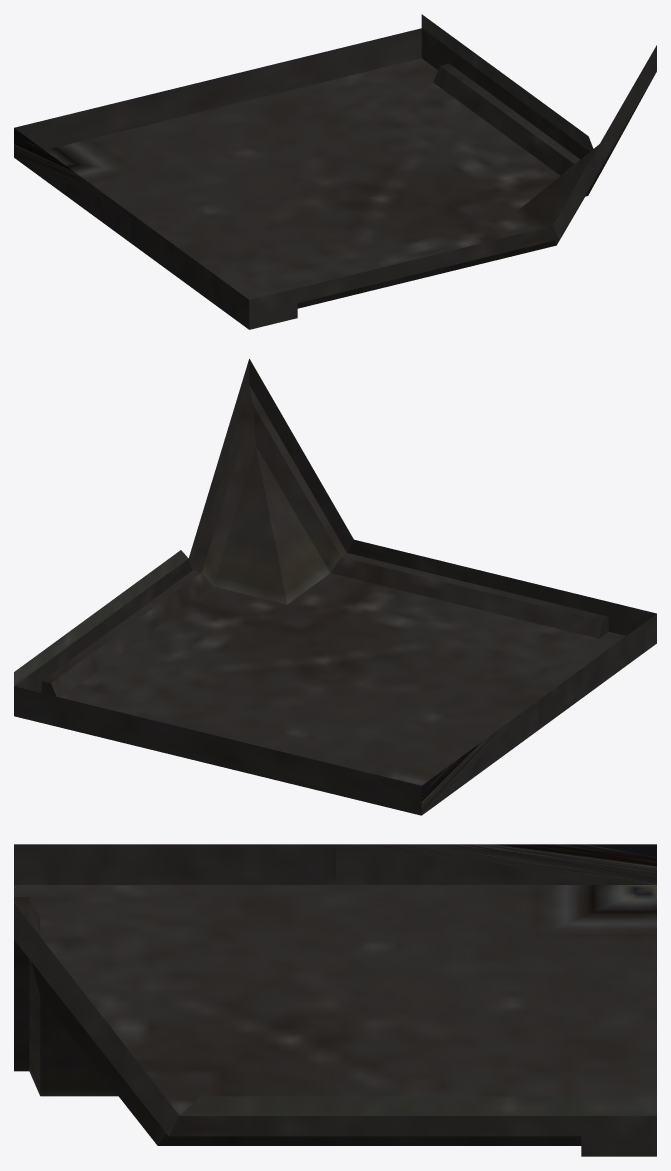
The model's file is Wall_external_1_corner_out.FBX.
The picture shows the model from 3 angles, top to bottom: view 1: azimuth 30°, elevation 25°; view 2: azimuth 150°, elevation 25°; view 3: azimuth 270°, elevation 25°; orthographic projection. The views are drawn at different scales.
Parts seen in each view (by area): view 1: Wall_external_1_corner_out; view 2: Wall_external_1_corner_out; view 3: Wall_external_1_corner_out.
Boxes of the visible parts, box(x1,y1,x2,y2) form: Wall_external_1_corner_out: box(14, 14, 656, 329); Wall_external_1_corner_out: box(14, 359, 656, 815); Wall_external_1_corner_out: box(14, 844, 656, 1156).
Size of the model in its own units: 300 by 131 by 300.
